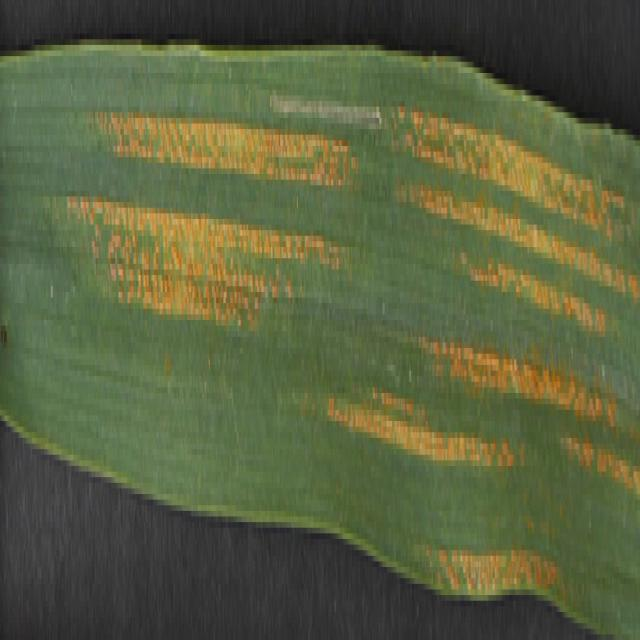leaf rust: (65, 56, 640, 590)
